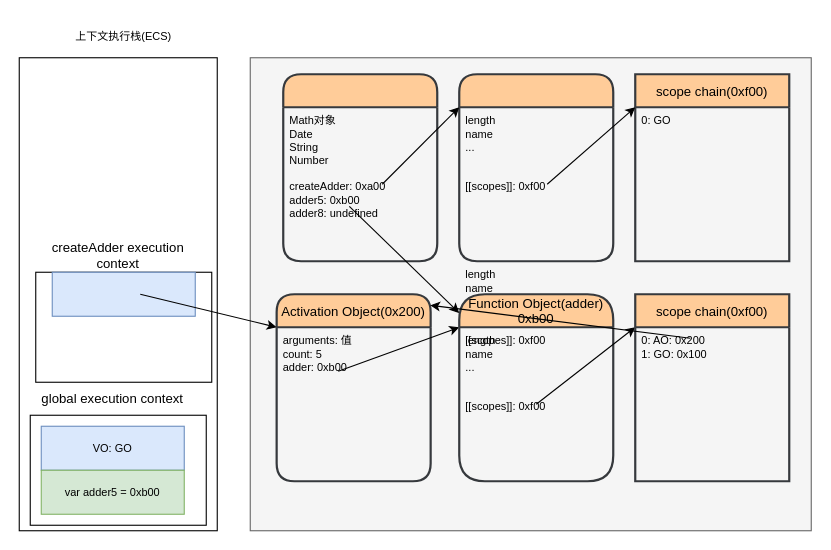
Some shapes in this 831 by 550 pixel diagram are drawn without their labels. The box of each missing label's shape, as (x1, y1, x2, y2) in pixels:
Function Object(createAdder) 0xa00: (458, 73, 614, 262)
Global Object(window 0x100): (282, 73, 438, 262)
VO: AO: (51, 271, 195, 316)
